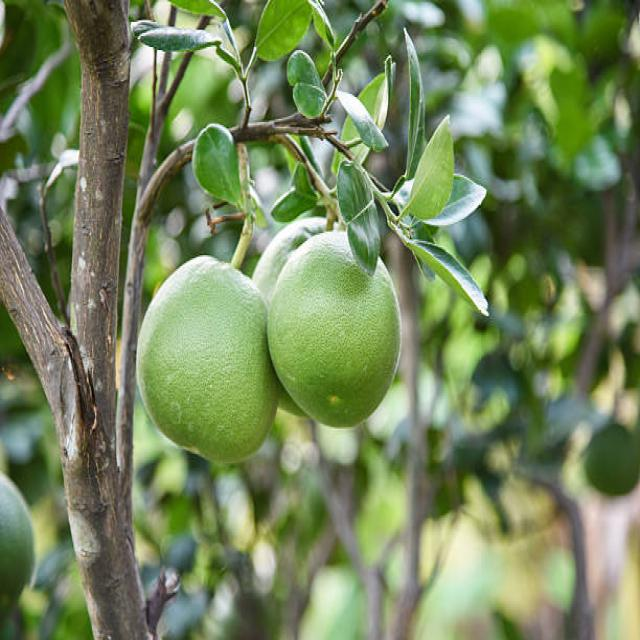Unripe: (138, 256, 280, 467), (268, 230, 402, 426)
